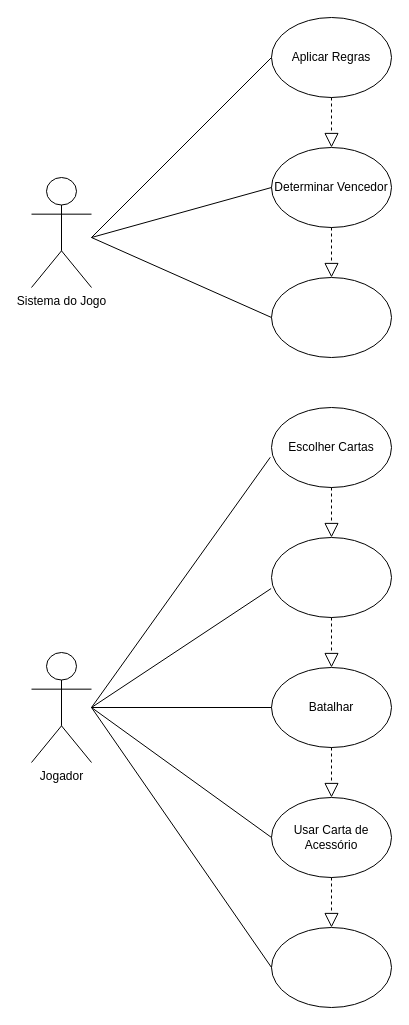
Image size: 409x1025. Some labels were removed from this diagram. The shapes that lost their labels are listed below. From the top down, each one's centre as x and y in pixels, then its label:
the point at 331,317: Verificar Resultado
the point at 331,577: Iniciar Partida
the point at 331,967: Finalizar Jogo
